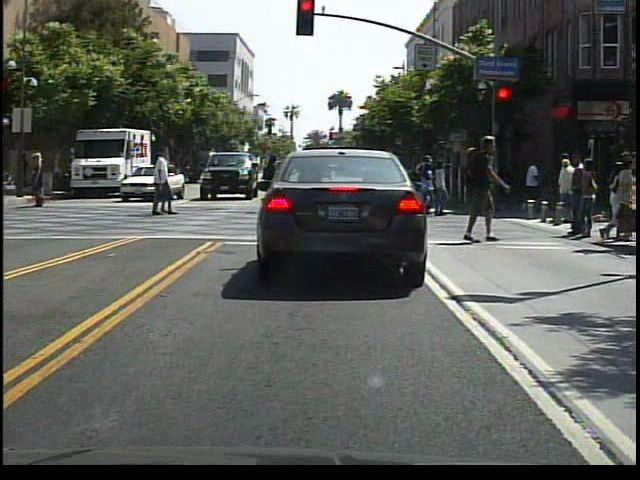person: (451, 132, 505, 248), (143, 149, 179, 225), (243, 155, 276, 214), (553, 154, 578, 226), (26, 150, 52, 214), (522, 155, 542, 221)
